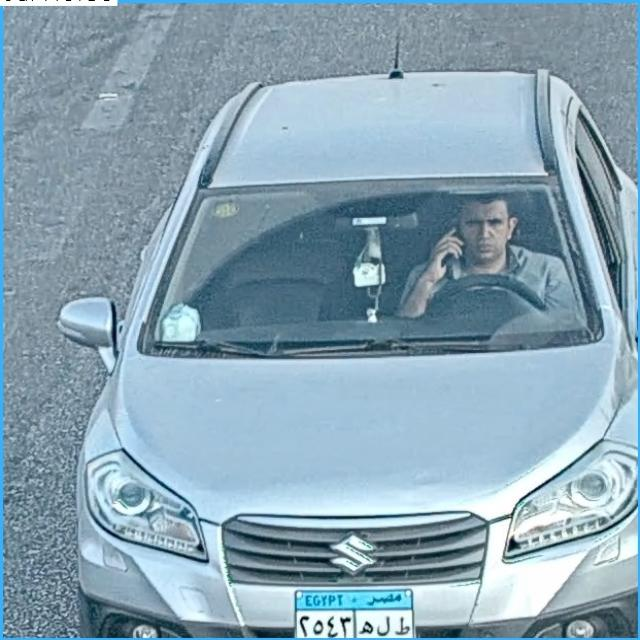windshield: (150, 176, 592, 348)
